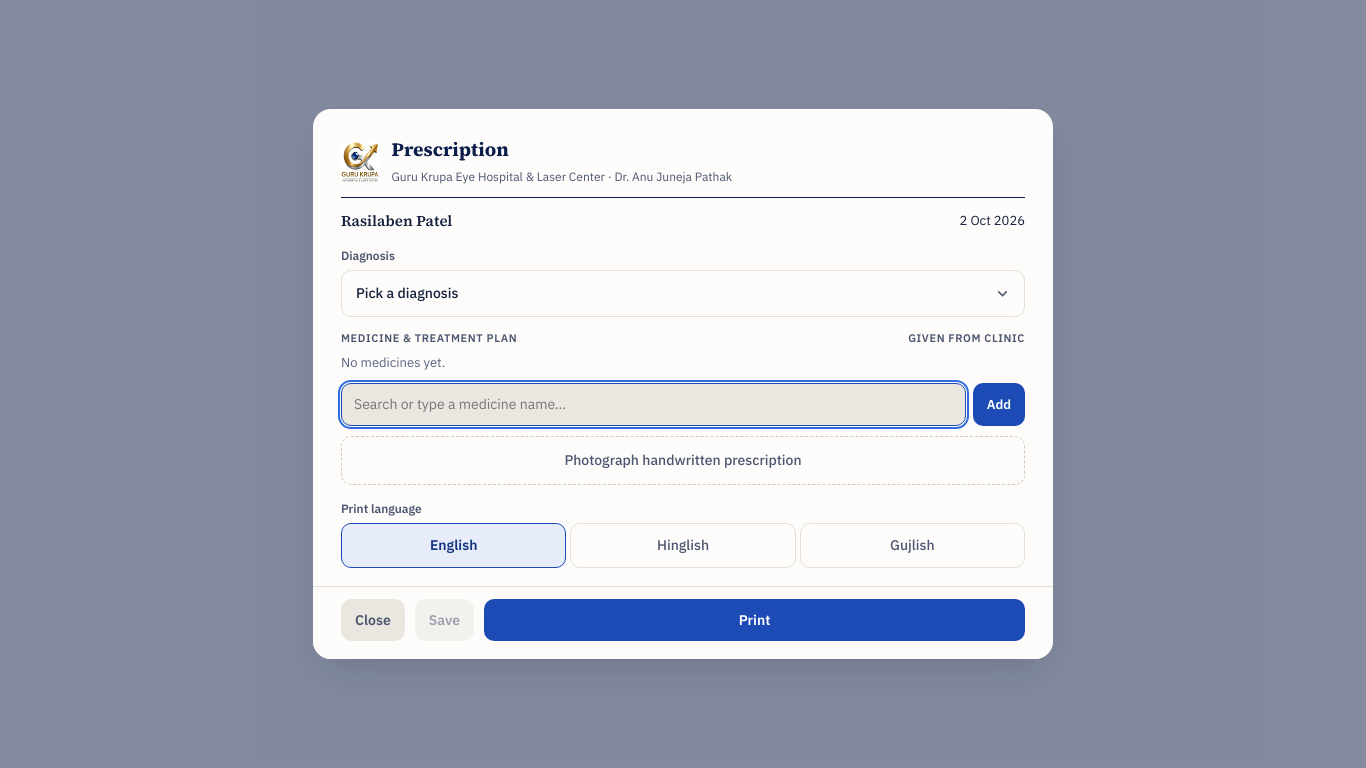
Scenario: Medicine picker & brand/composition (F12) › non-admins see the hint but no "Add to medicine list" link
Type "Some Unknown Drops" into the dropdown labelled "medicine name".
click(653, 404); type("Some Unknown Drops")  # box top-left (341, 383), bottom-right (966, 426)
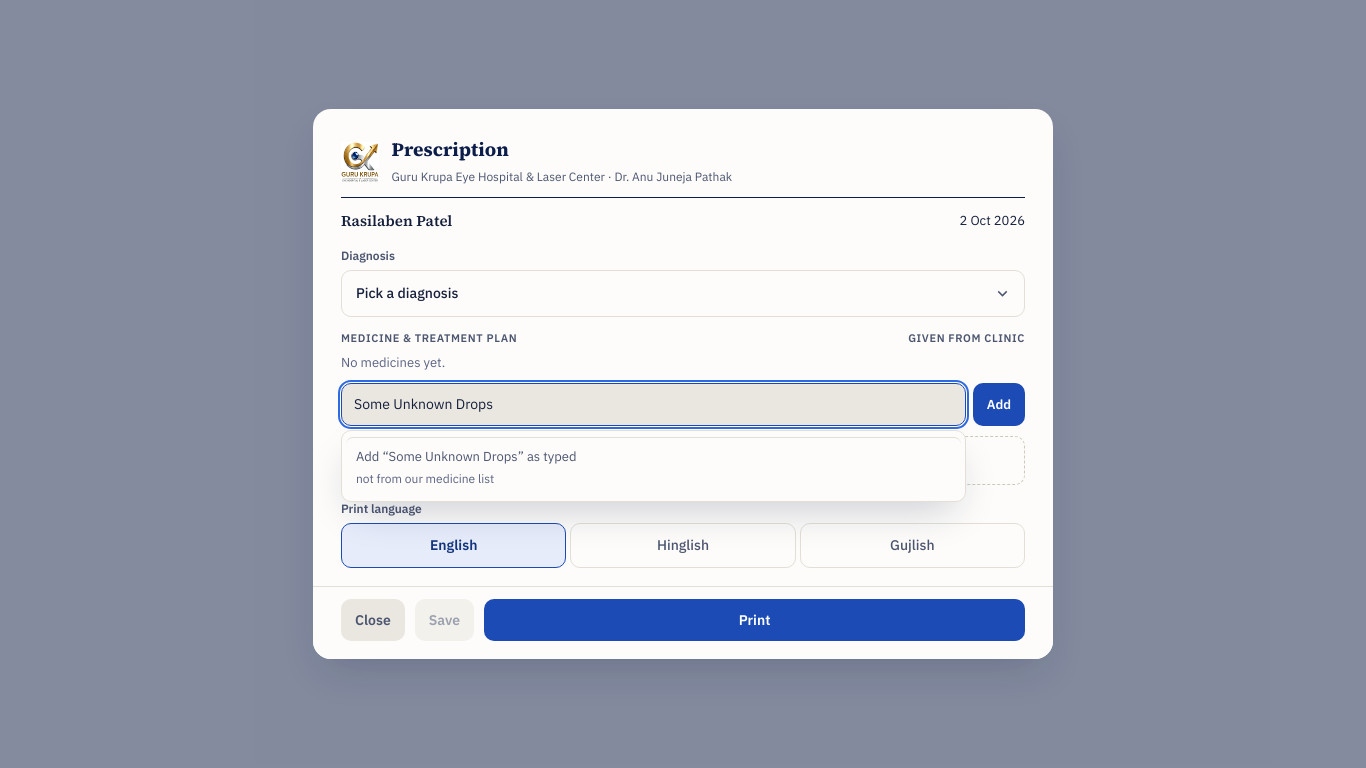
Click the button "Add".
click(999, 404)  # box top-left (973, 383), bottom-right (1025, 426)
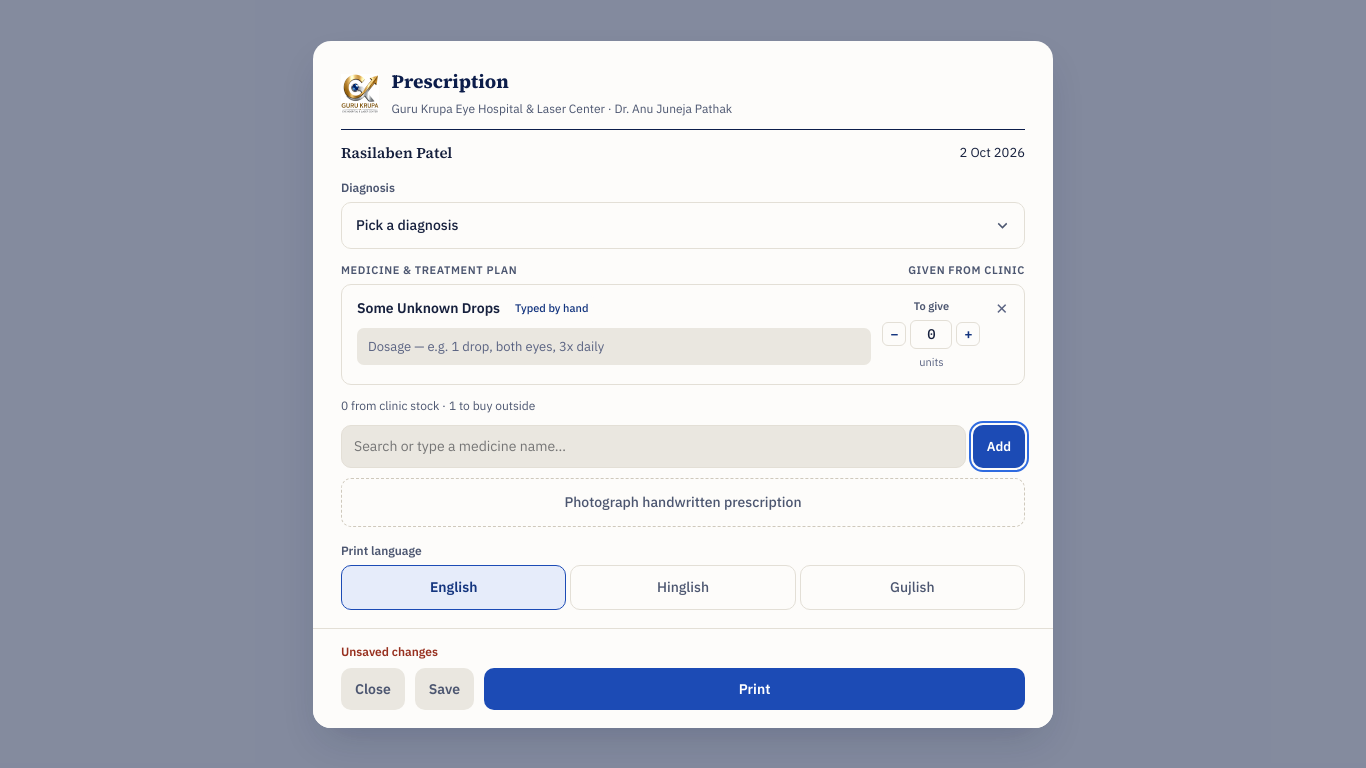
Expected: the text "Typed by hand" is shown, top-left (508, 296), bottom-right (595, 320)
